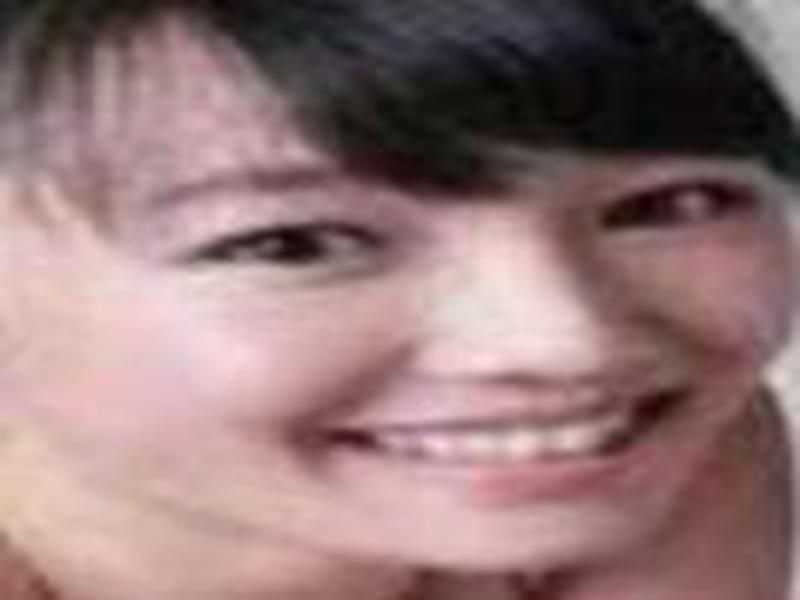without_mask: (10, 34, 795, 582)
